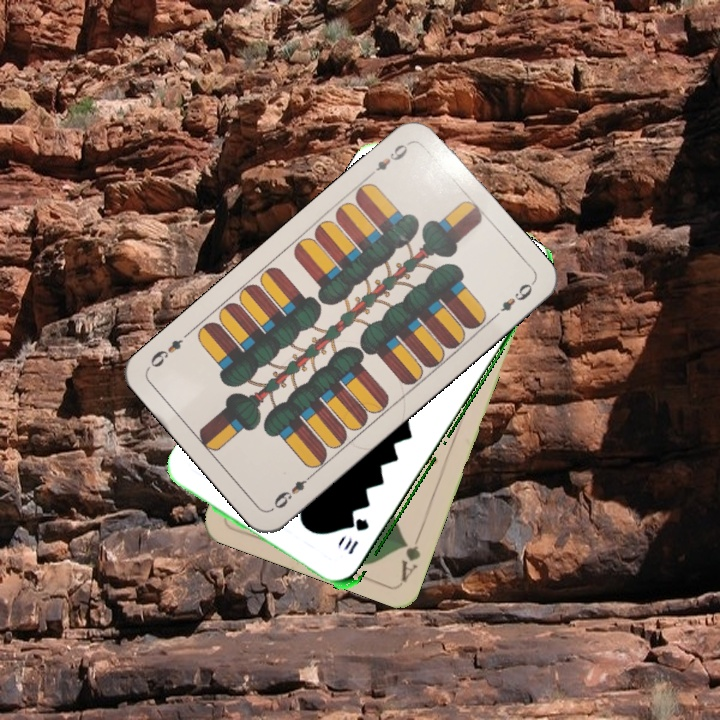E9: (268, 469, 316, 513), (371, 138, 413, 174)
G10: (340, 515, 372, 558)
GA: (397, 526, 424, 584)
